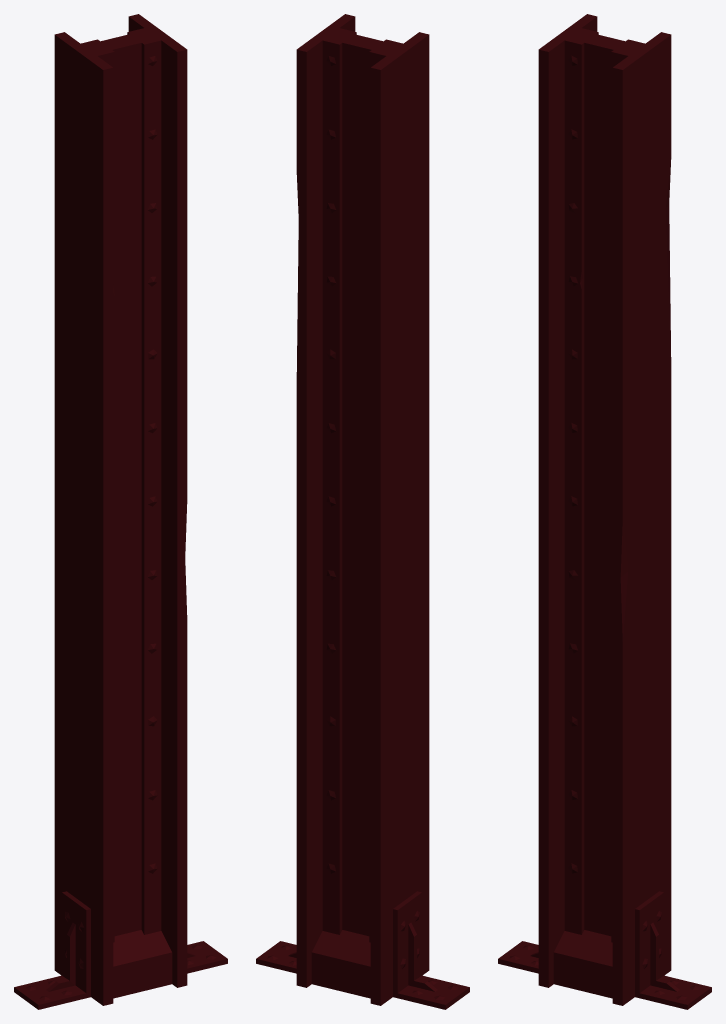
File: SW_ENV_PillarGirderTrack_4-25m_Drk.fbx
3 views of the same model, side by side, from view 1: azimuth 30°, elevation 25°; view 2: azimuth 150°, elevation 25°; view 3: azimuth 330°, elevation 25° (orthographic).
Parts seen in each view (by area): view 1: SW_ENV_PillarGirderTrack_4-25m_Drk; view 2: SW_ENV_PillarGirderTrack_4-25m_Drk; view 3: SW_ENV_PillarGirderTrack_4-25m_Drk.
Boxes of the visible parts, bbox=[...] form: SW_ENV_PillarGirderTrack_4-25m_Drk: bbox=[14, 14, 227, 1009]; SW_ENV_PillarGirderTrack_4-25m_Drk: bbox=[256, 14, 469, 1009]; SW_ENV_PillarGirderTrack_4-25m_Drk: bbox=[498, 14, 711, 1009].
Bounding box in the file's own units: 90 × 425 × 40.
